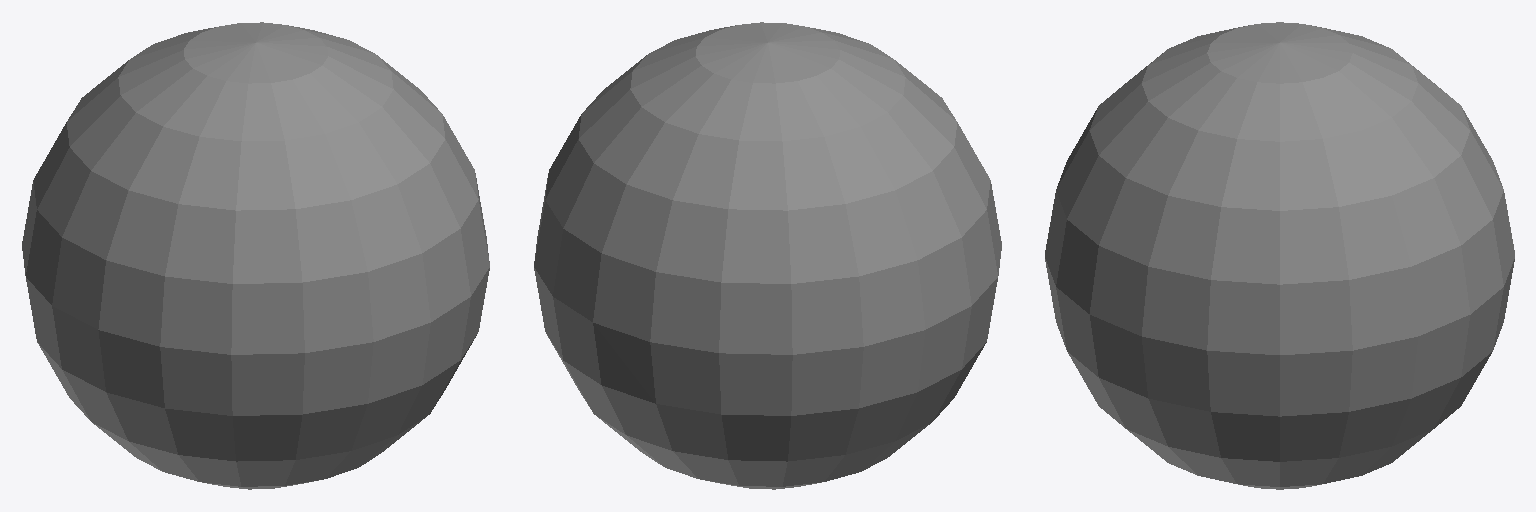
Rendered from bullet.obj.
3 renders of one model, left to right at view 1: azimuth 30°, elevation 25°; view 2: azimuth 150°, elevation 25°; view 3: azimuth 270°, elevation 25°, orthographic.
Parts seen in each view (by area): view 1: Bala; view 2: Bala; view 3: Bala.
Boxes of the visible parts, box(x1,y1,x2,y2) form: Bala: box(22, 22, 489, 489); Bala: box(534, 22, 1001, 489); Bala: box(1045, 22, 1514, 489).
Size of the model in its own units: 5 by 5 by 5.